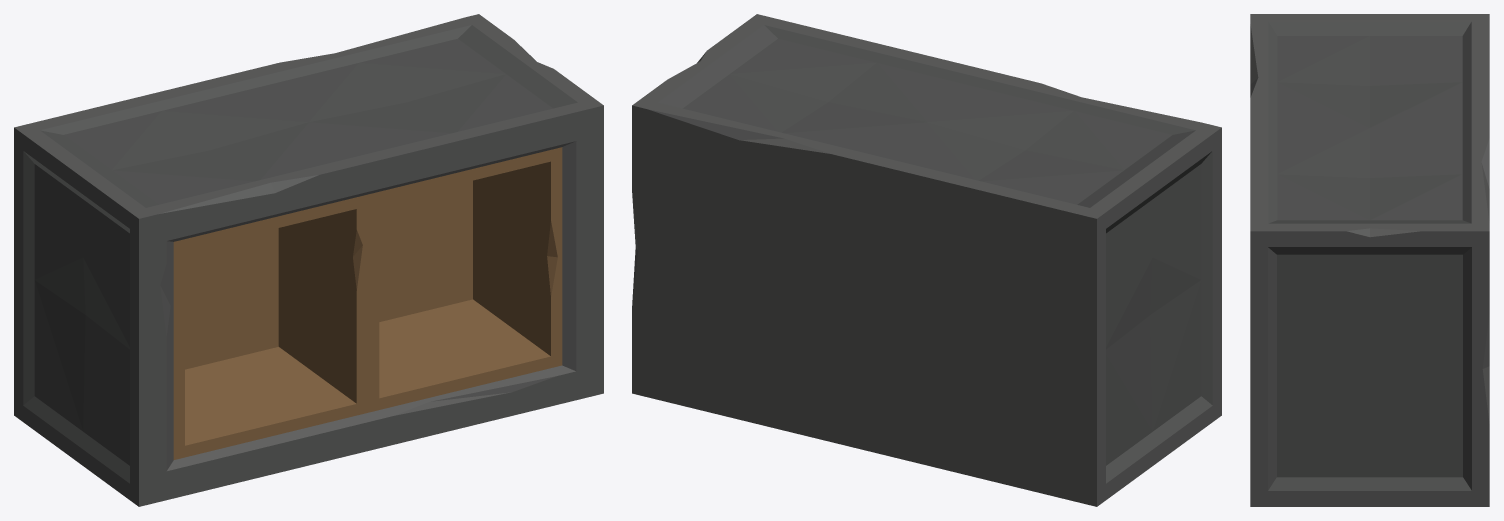
File: SFHW_Roof_Shelving_001.fbx
3 views of the same model, side by side, from view 1: azimuth 30°, elevation 25°; view 2: azimuth 150°, elevation 25°; view 3: azimuth 270°, elevation 25° (orthographic). The views are drawn at different scales.
Parts seen in each view (by area): view 1: SFHW_Roof_Shelving_001; view 2: SFHW_Roof_Shelving_001; view 3: SFHW_Roof_Shelving_001.
Boxes of the visible parts, box(x1,y1,x2,y2) form: SFHW_Roof_Shelving_001: box(14, 14, 603, 506); SFHW_Roof_Shelving_001: box(632, 14, 1221, 506); SFHW_Roof_Shelving_001: box(1250, 14, 1489, 506).
Size of the model in its own units: 191 by 113 by 88.97.
